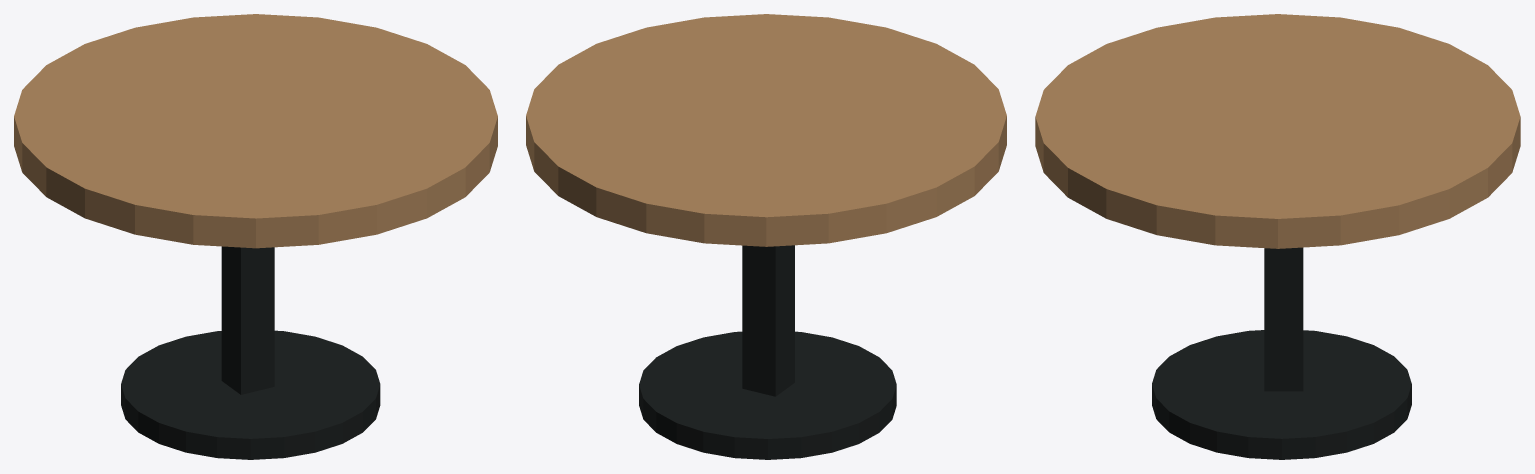
The model's file is better.glb.
The picture shows the model from 3 angles, left to right: view 1: azimuth 30°, elevation 25°; view 2: azimuth 150°, elevation 25°; view 3: azimuth 270°, elevation 25°; orthographic projection.
Parts seen in each view (by area): view 1: starbucksTable_2, starbucksTable_0, starbucksTable_1; view 2: starbucksTable_2, starbucksTable_0, starbucksTable_1; view 3: starbucksTable_2, starbucksTable_0, starbucksTable_1.
Boxes of the visible parts, bbox=[...] form: starbucksTable_2: bbox=[14, 14, 497, 248]; starbucksTable_0: bbox=[121, 330, 380, 459]; starbucksTable_1: bbox=[221, 246, 274, 394]; starbucksTable_2: bbox=[526, 14, 1006, 246]; starbucksTable_0: bbox=[639, 331, 896, 459]; starbucksTable_1: bbox=[742, 245, 794, 396]; starbucksTable_2: bbox=[1035, 14, 1520, 248]; starbucksTable_0: bbox=[1152, 330, 1411, 459]; starbucksTable_1: bbox=[1264, 247, 1303, 391].
Size of the model in its own units: 1.25 by 0.825 by 1.25.
